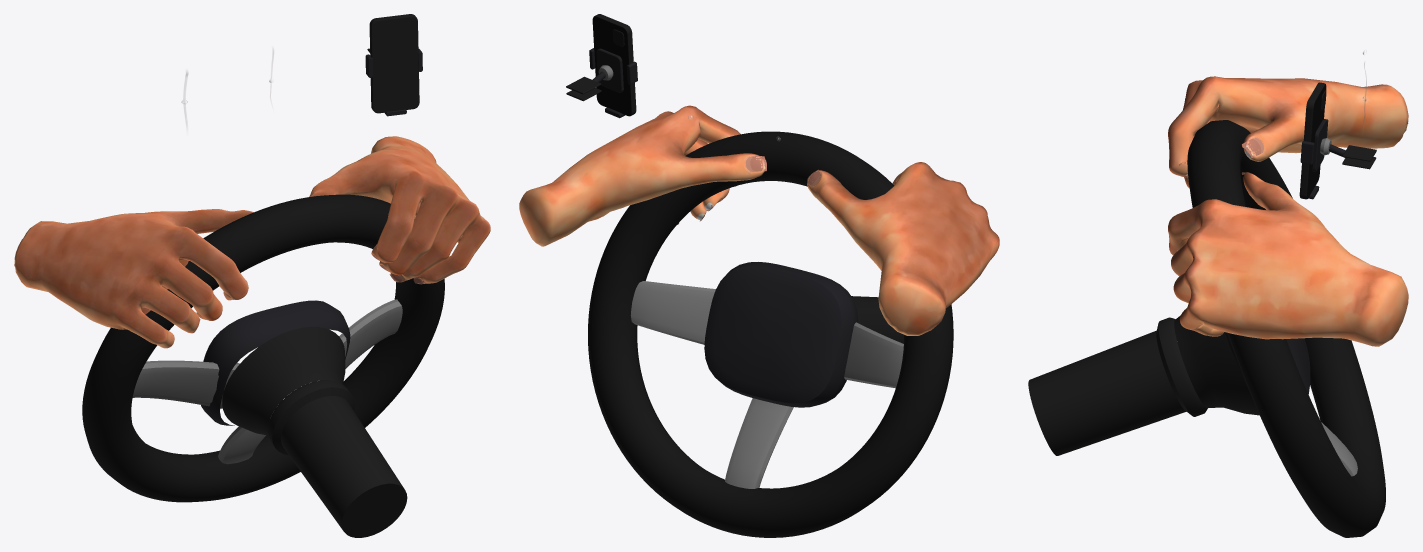
The model's file is uber.glb.
3 views of the same model, side by side, from view 1: azimuth 30°, elevation 25°; view 2: azimuth 150°, elevation 25°; view 3: azimuth 270°, elevation 25° (orthographic). The views are drawn at different scales.
Visible parts, largest first — view 1: uber_volante_malha, uber_mao_dir_malha, uber_mao_esq_malha, uber_celular_corpo; view 2: uber_volante_malha, uber_mao_dir_malha, uber_mao_esq_malha, uber_celular_corpo; view 3: uber_volante_malha, uber_mao_esq_malha, uber_mao_dir_malha, uber_celular_corpo.
Part boxes in pixels (bbox=[...]): uber_volante_malha: bbox=[82, 194, 444, 537]; uber_mao_dir_malha: bbox=[14, 209, 253, 348]; uber_mao_esq_malha: bbox=[309, 136, 490, 284]; uber_celular_corpo: bbox=[365, 14, 422, 116]; uber_volante_malha: bbox=[588, 131, 953, 537]; uber_mao_dir_malha: bbox=[807, 162, 999, 335]; uber_mao_esq_malha: bbox=[519, 105, 765, 246]; uber_celular_corpo: bbox=[566, 14, 637, 118]; uber_volante_malha: bbox=[1028, 120, 1385, 537]; uber_mao_esq_malha: bbox=[1168, 172, 1408, 346]; uber_mao_dir_malha: bbox=[1168, 76, 1408, 188]; uber_celular_corpo: bbox=[1299, 82, 1376, 199].
Size of the model in its own units: 0.4056 by 0.4221 by 0.29.
6 materials, 3 textured.
